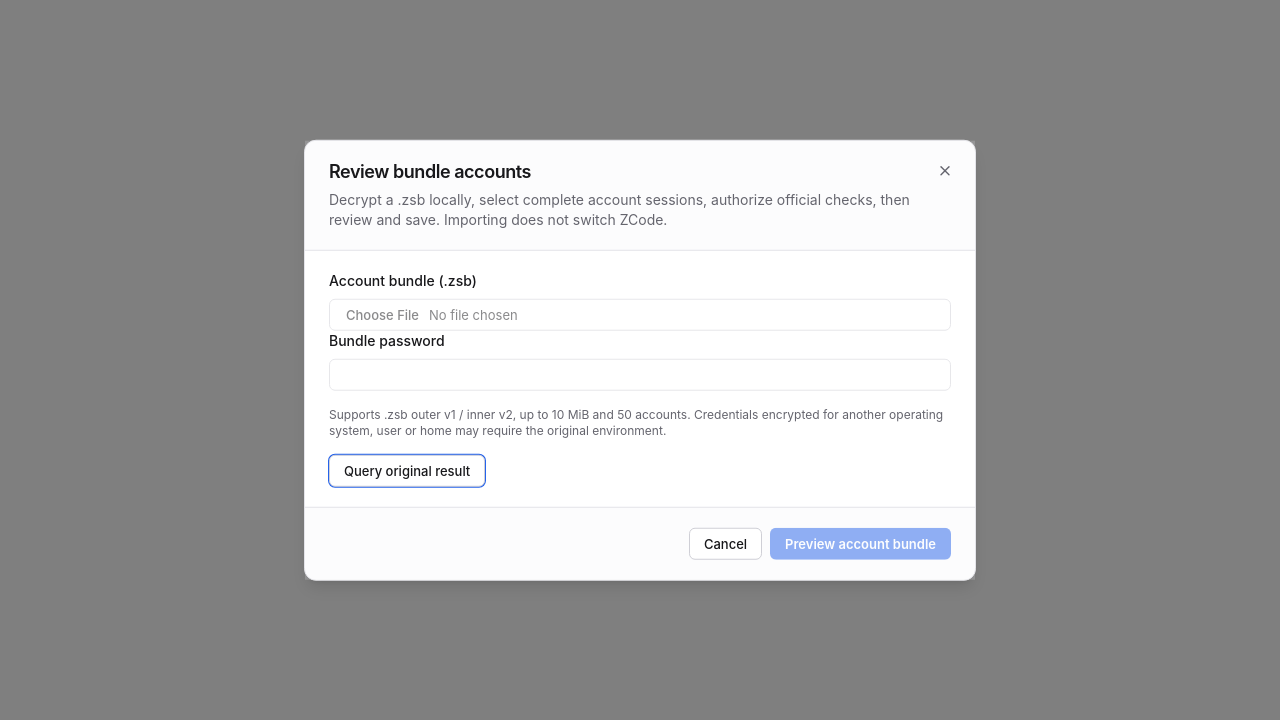
Test: ZCode bundle import › recovers on a fresh dialog from its saved pointer without preview or checks
The width and height of the screenshot is (1280, 720).
Click the button "Query original result" at {"x": 407, "y": 470}, box [329,454,485,486]
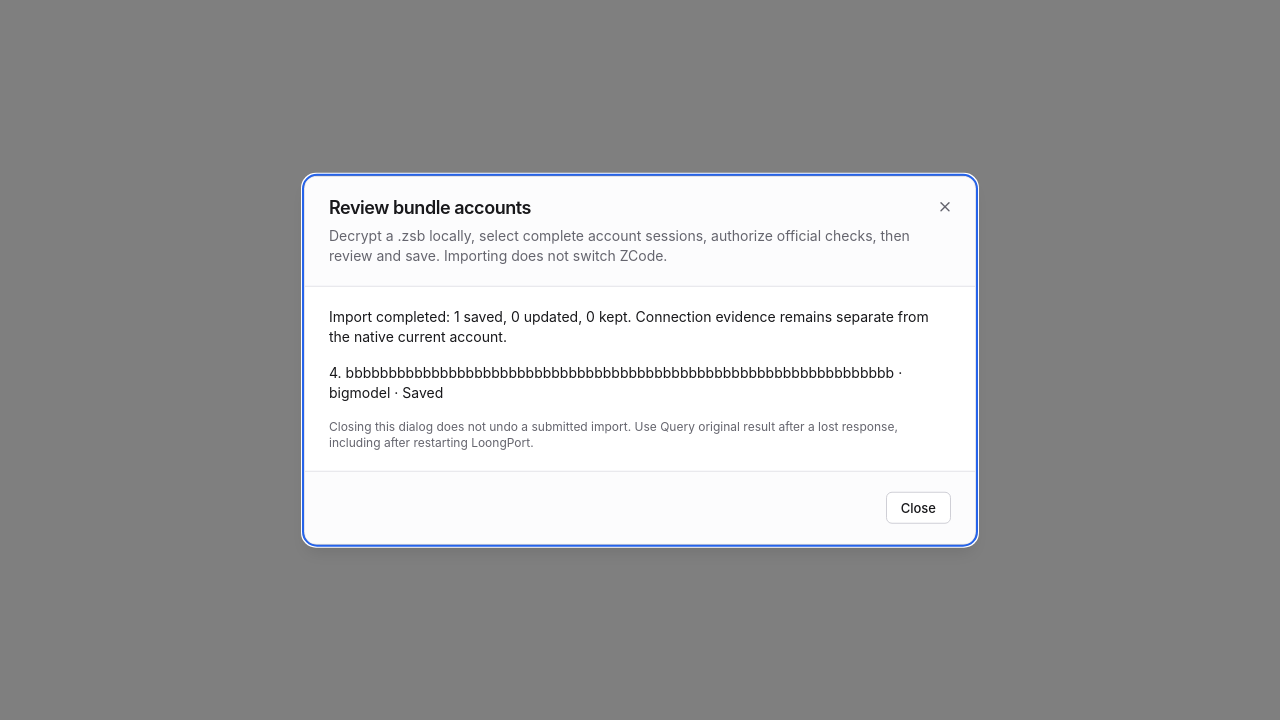
expect the text "Import completed: 1 saved" is shown: met, box [329,307,929,344]
